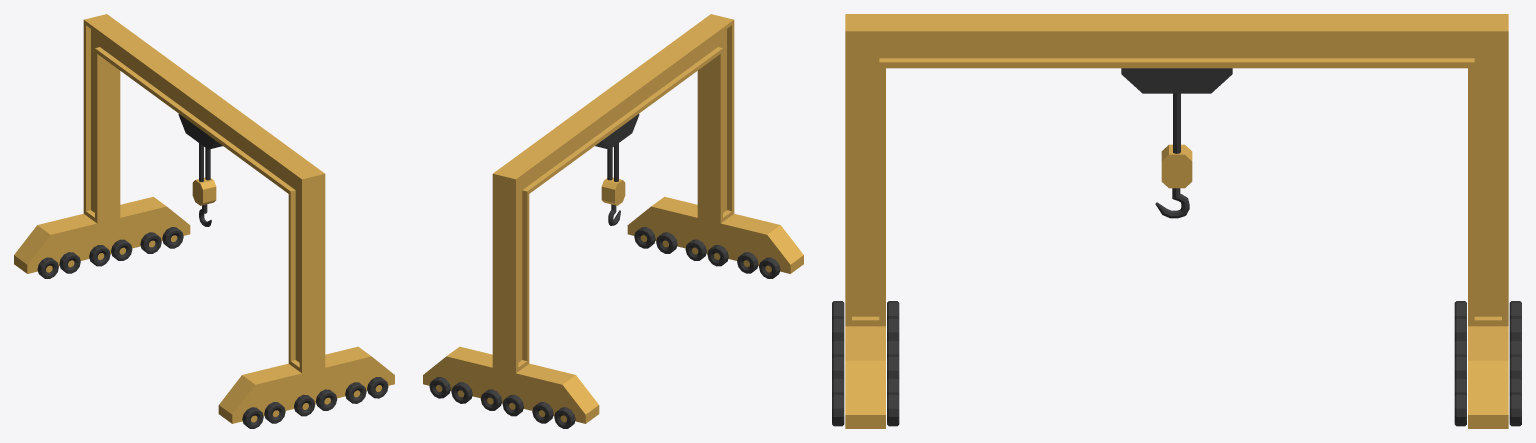
File: 06 Cargo_Crane.FBX
3 views of the same model, side by side, from view 1: azimuth 30°, elevation 25°; view 2: azimuth 150°, elevation 25°; view 3: azimuth 270°, elevation 25° (orthographic). The views are drawn at different scales.
Parts seen in each view (by area): view 1: Rectangle002, Cylinder145, Cylinder131, Cylinder141, Cylinder151, Cylinder143, Cylinder147, Cylinder135, Cylinder129, Cylinder133, Cylinder137, Cylinder149 (+1 smaller); view 2: Rectangle002, Cylinder144, Cylinder142, Cylinder134, Cylinder146, Cylinder150, Cylinder132, Cylinder140, Cylinder136, Cylinder148, Cylinder130, Cylinder138 (+1 smaller); view 3: Rectangle002.
Boxes of the visible parts, x1,y1,x2,y2 form: Rectangle002: (14,14,394,423); Cylinder145: (345,382,366,403); Cylinder131: (59,252,80,273); Cylinder141: (242,407,263,428); Cylinder151: (315,389,337,410); Cylinder143: (264,402,285,423); Cylinder147: (367,377,388,398); Cylinder135: (162,227,183,248); Cylinder129: (37,257,58,278); Cylinder133: (140,232,161,253); Cylinder137: (89,245,110,266); Cylinder149: (294,394,315,416); Rectangle002: (423,14,803,423); Cylinder144: (737,252,758,273); Cylinder142: (759,257,780,278); Cylinder134: (451,382,472,403); Cylinder146: (656,232,677,253); Cylinder150: (707,245,728,266); Cylinder132: (532,402,553,423); Cylinder140: (480,389,502,410); Cylinder136: (429,377,450,398); Cylinder148: (634,227,655,248); Cylinder130: (554,407,575,428); Cylinder138: (502,394,523,416); Rectangle002: (845,14,1508,428).
Size of the model in its own units: 700 by 963 by 1691.
